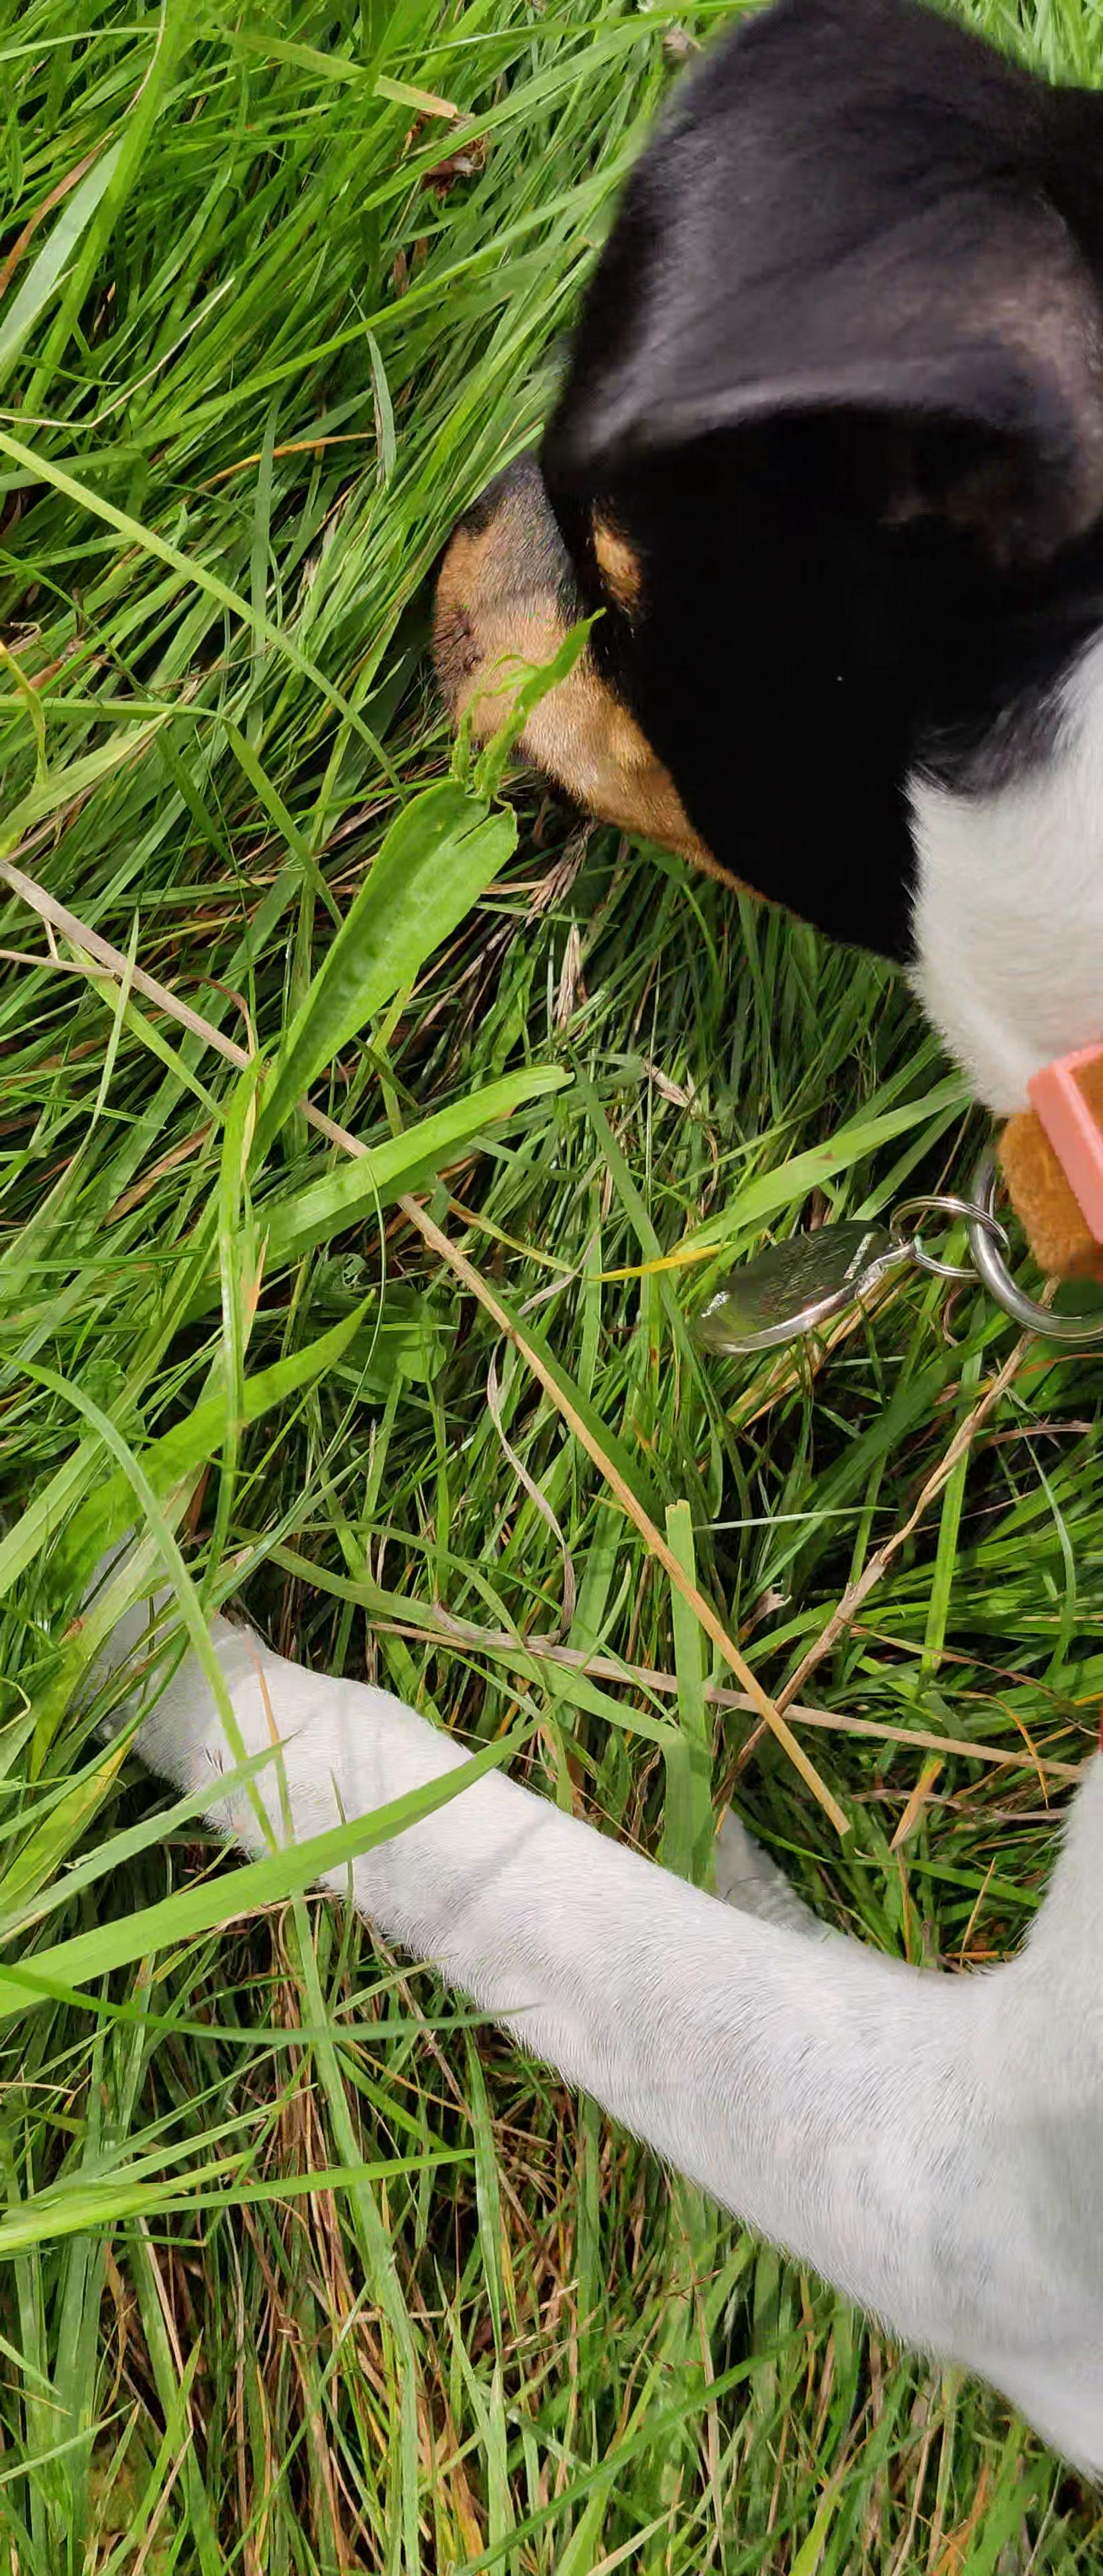Dog: (87, 0, 1103, 2576)
